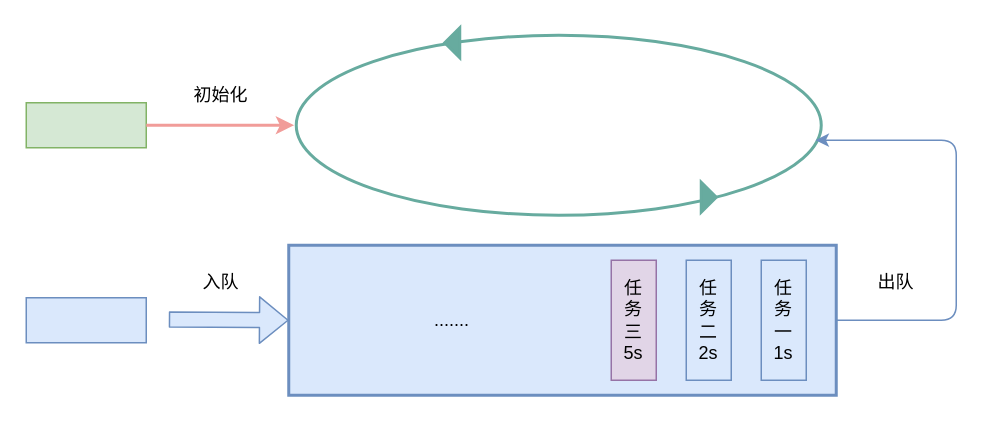
Some shapes in this 995 by 422 pixel diagram are drawn without their labels. The box of each missing label's shape, as (x1, y1, x2, y2) in pixels:
任务队列: (25, 296, 146, 343)
单线程: (25, 101, 146, 148)
